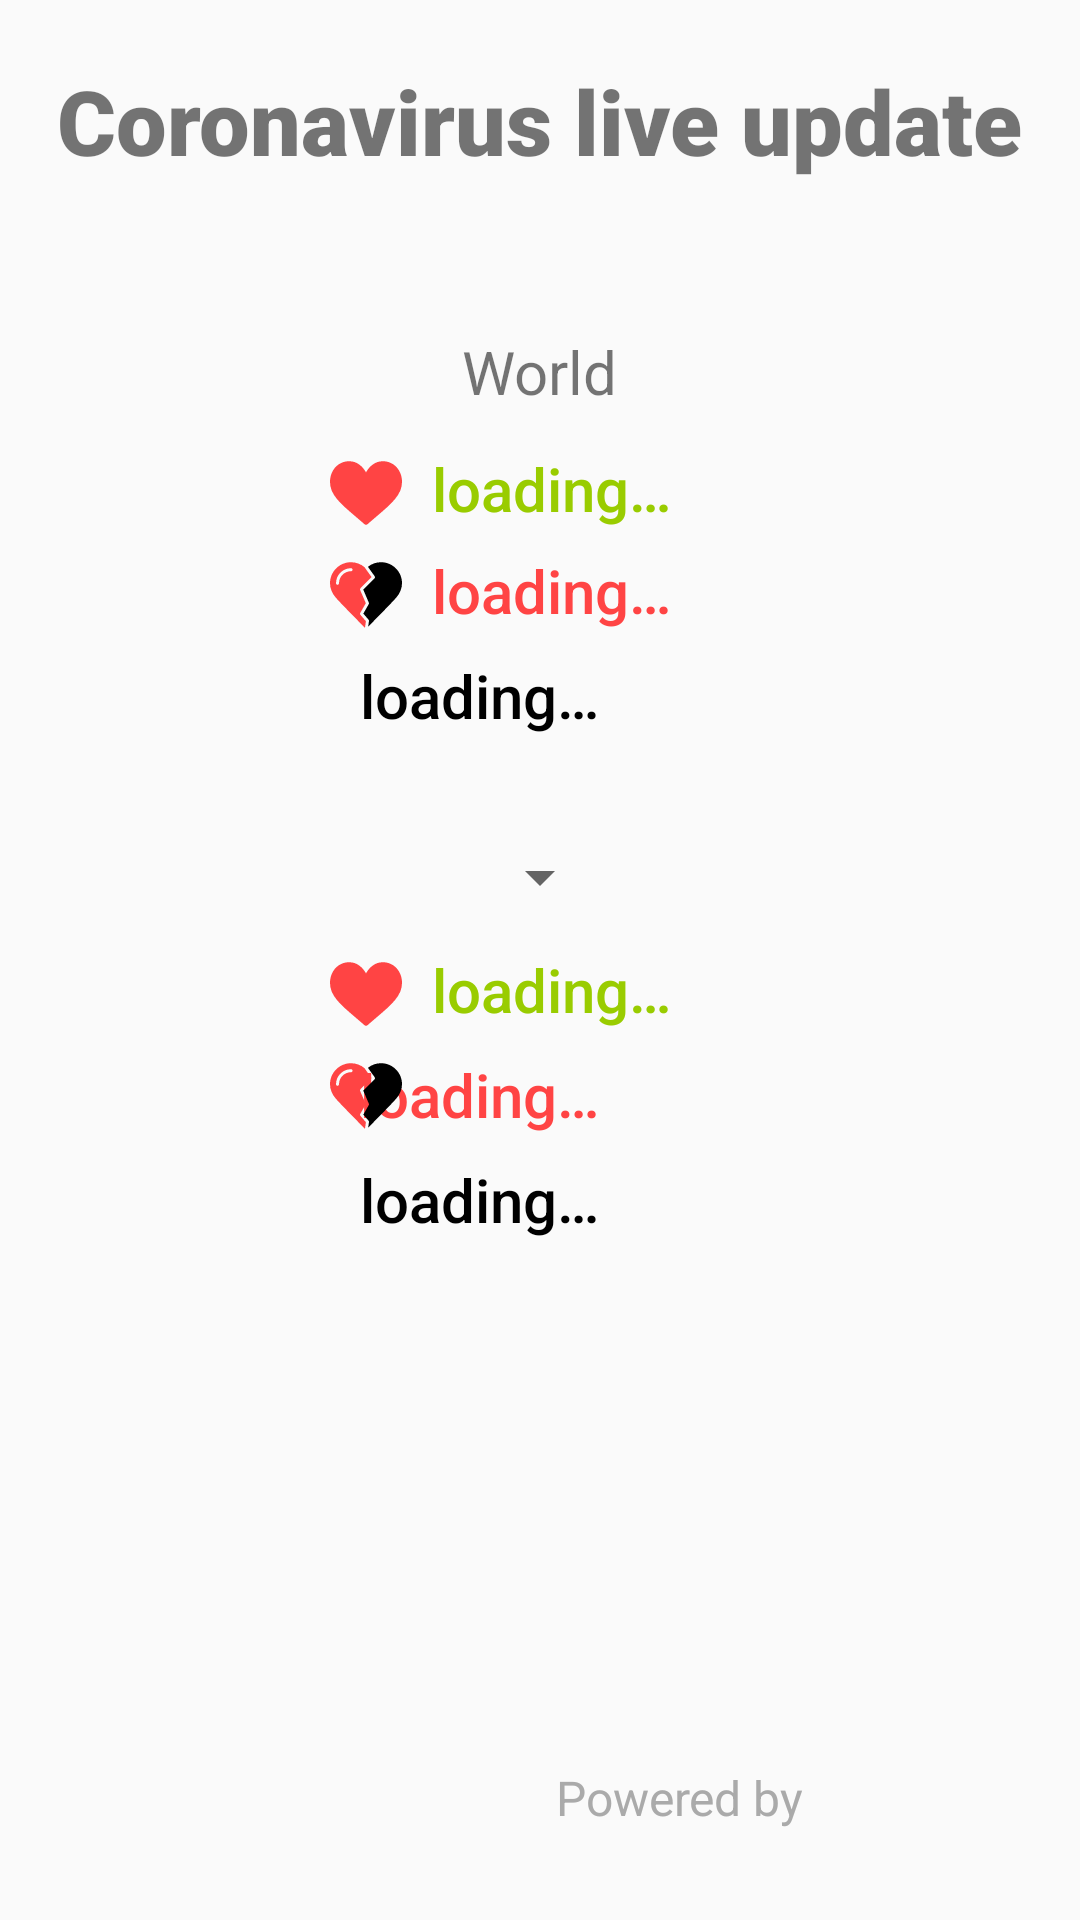

Where to tap for icons on this 1080w x 1920h app screen, as [x,y]:
good: [366,493], [366,994]
